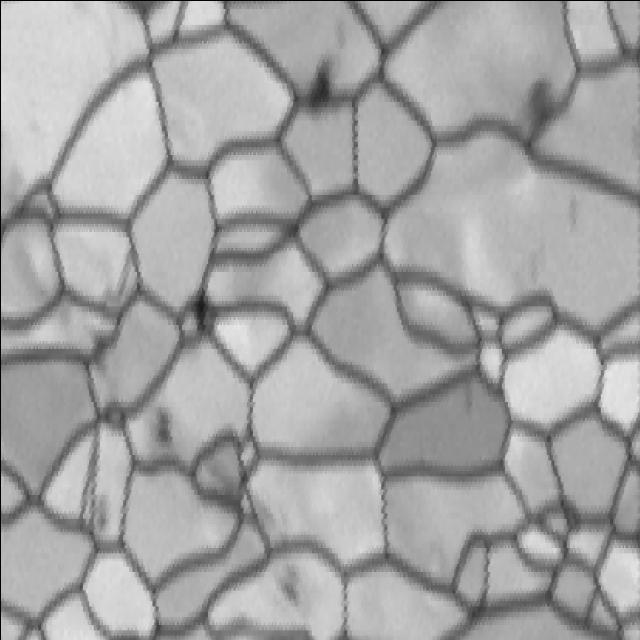good_void: (519, 70, 557, 148), (303, 56, 336, 117), (278, 553, 304, 612), (187, 288, 213, 342), (93, 483, 114, 539), (560, 192, 581, 238), (154, 410, 173, 452)
